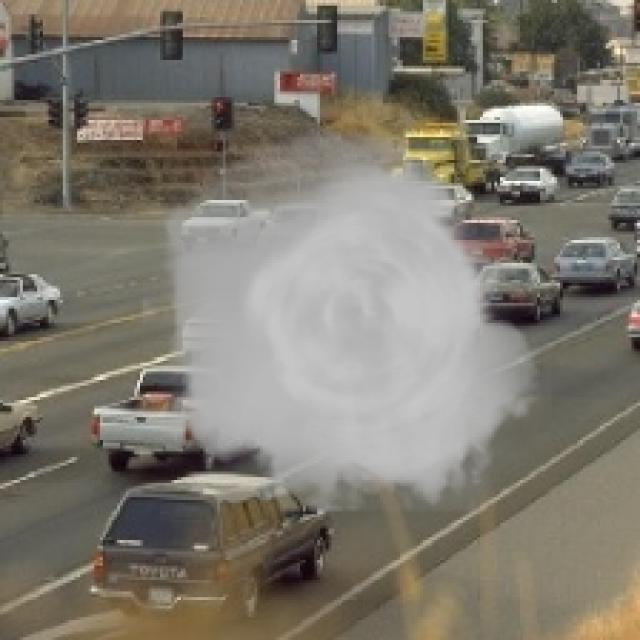smoke: (143, 128, 551, 512)
